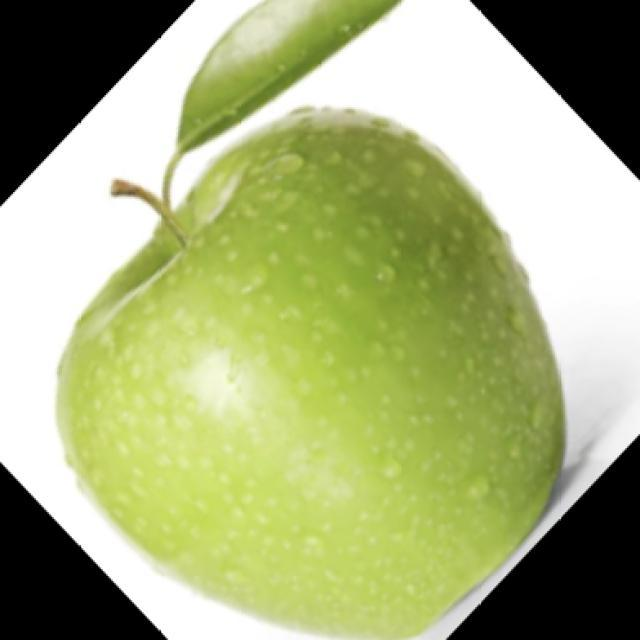Apple: (54, 103, 567, 639)
